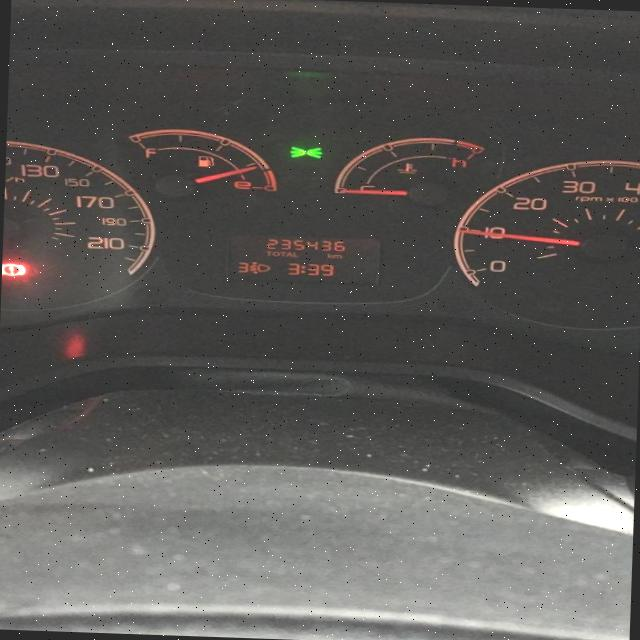odometer: (222, 232, 380, 284)
